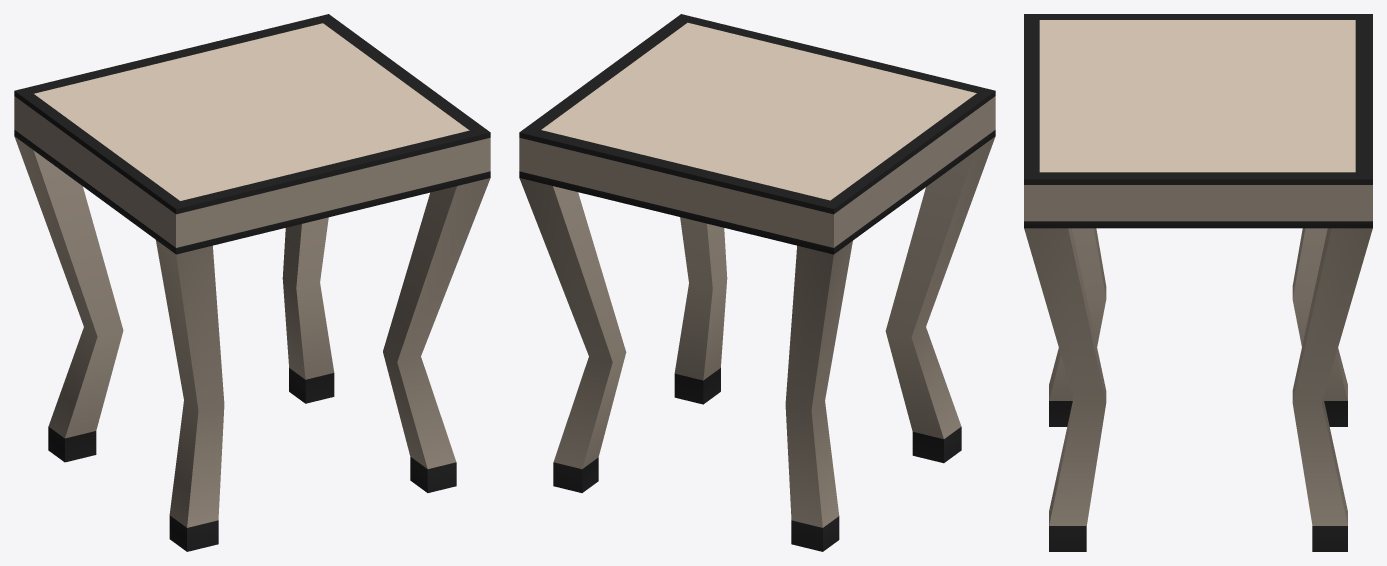
File: small table.fbx
3 renders of one model, left to right at view 1: azimuth 30°, elevation 25°; view 2: azimuth 150°, elevation 25°; view 3: azimuth 270°, elevation 25°, orthographic. The views are drawn at different scales.
Visible parts, largest first — view 1: pCube244; view 2: pCube244; view 3: pCube244.
Boxes of the visible parts, x1,y1,x2,y2 form: pCube244: [14, 14, 490, 551]; pCube244: [519, 14, 995, 551]; pCube244: [1024, 14, 1372, 551].
Bounding box in the file's own units: 1.58 × 1.71 × 1.41.
